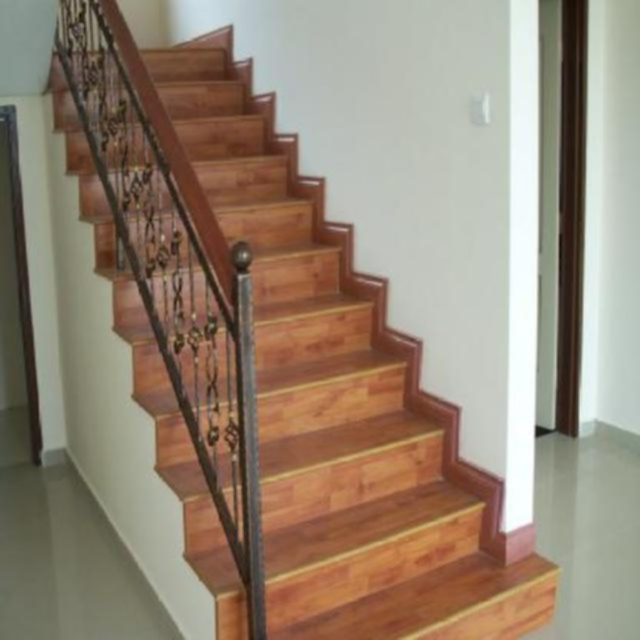stair: (33, 17, 549, 640)
